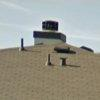Chimney: (18, 13, 66, 48)
